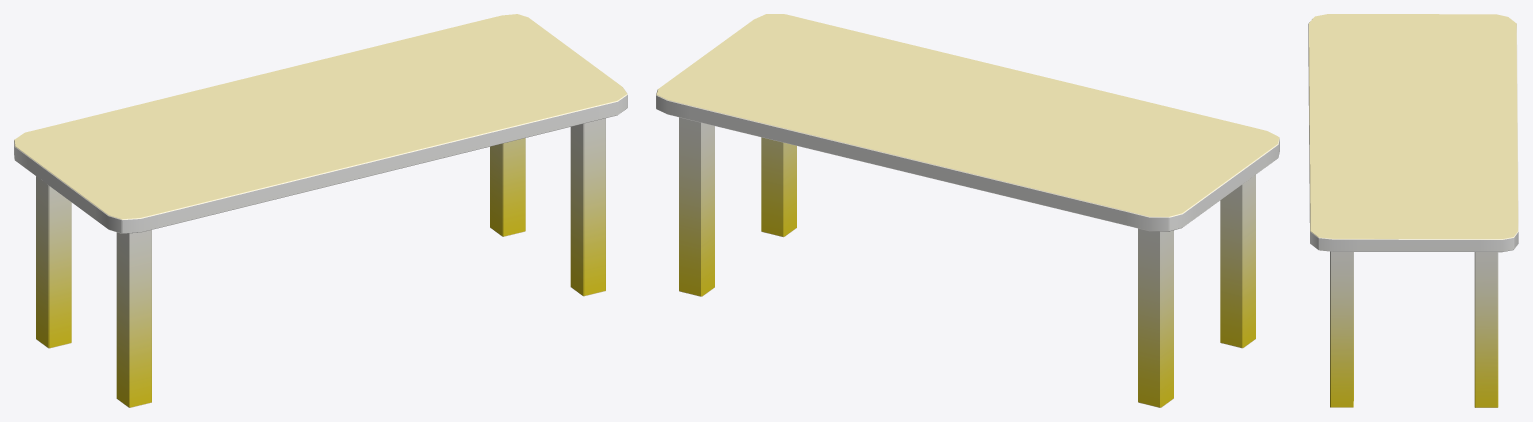
Rendered from Table.fbx.
The picture shows the model from 3 angles, left to right: view 1: azimuth 30°, elevation 25°; view 2: azimuth 150°, elevation 25°; view 3: azimuth 270°, elevation 25°; orthographic projection. The views are drawn at different scales.
Parts seen in each view (by area): view 1: Table; view 2: Table; view 3: Table.
Part boxes in pixels (bbox=[...]): Table: bbox=[14, 14, 627, 407]; Table: bbox=[656, 14, 1279, 407]; Table: bbox=[1308, 14, 1518, 407].
Bounding box in the file's own units: 22.56 × 8.24 × 8.89.
Materials: 1 (1 with a texture image).
